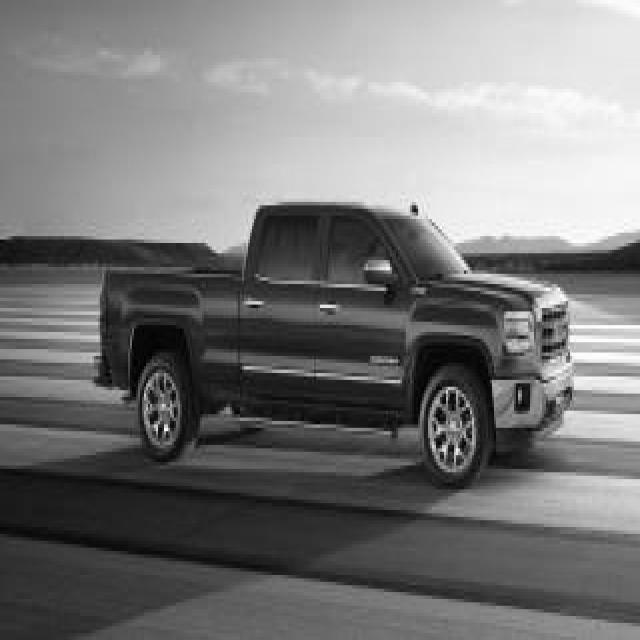Car: (97, 203, 574, 485)
